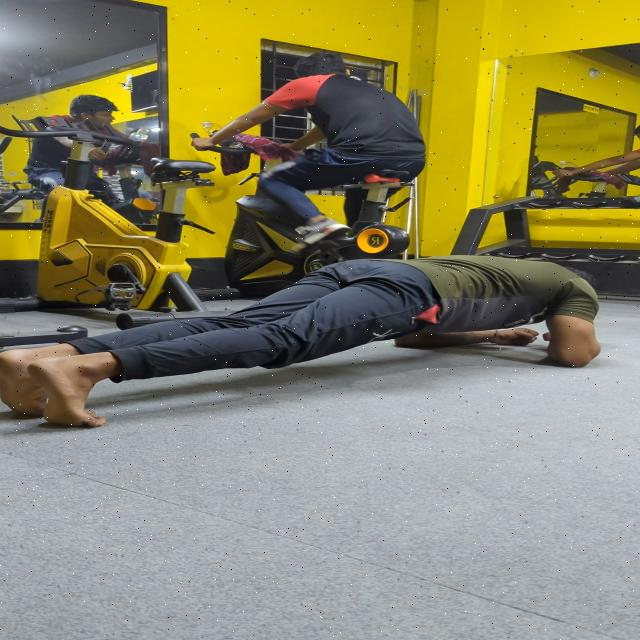Normal_Plunk: (0, 209, 640, 430)
